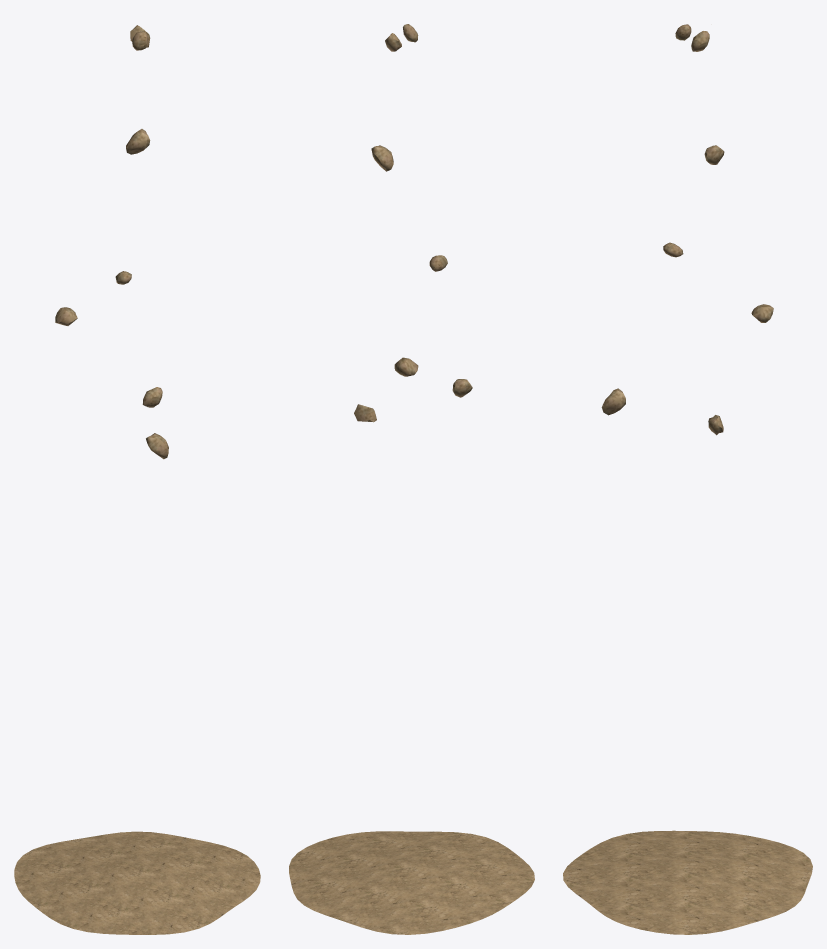
File: ALV-AGR-003_anim.glb
The picture shows the model from 3 angles, left to right: view 1: azimuth 30°, elevation 25°; view 2: azimuth 150°, elevation 25°; view 3: azimuth 270°, elevation 25°; orthographic projection.
Parts seen in each view (by area): view 1: ALV-AGR-003_anim_monte; view 2: ALV-AGR-003_anim_monte; view 3: ALV-AGR-003_anim_monte.
Boxes of the visible parts, x1,y1,x2,y2 form: ALV-AGR-003_anim_monte: (14,831,260,934); ALV-AGR-003_anim_monte: (289,831,534,934); ALV-AGR-003_anim_monte: (563,830,812,934).
Size of the model in its own units: 0.261 by 1 by 0.2647.
Materials: 1 (1 with a texture image).
